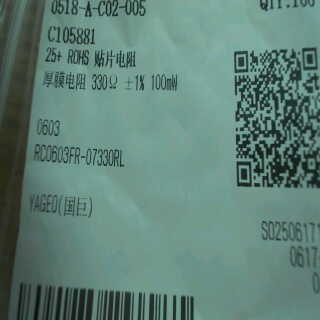330R: (89, 73, 121, 95)
